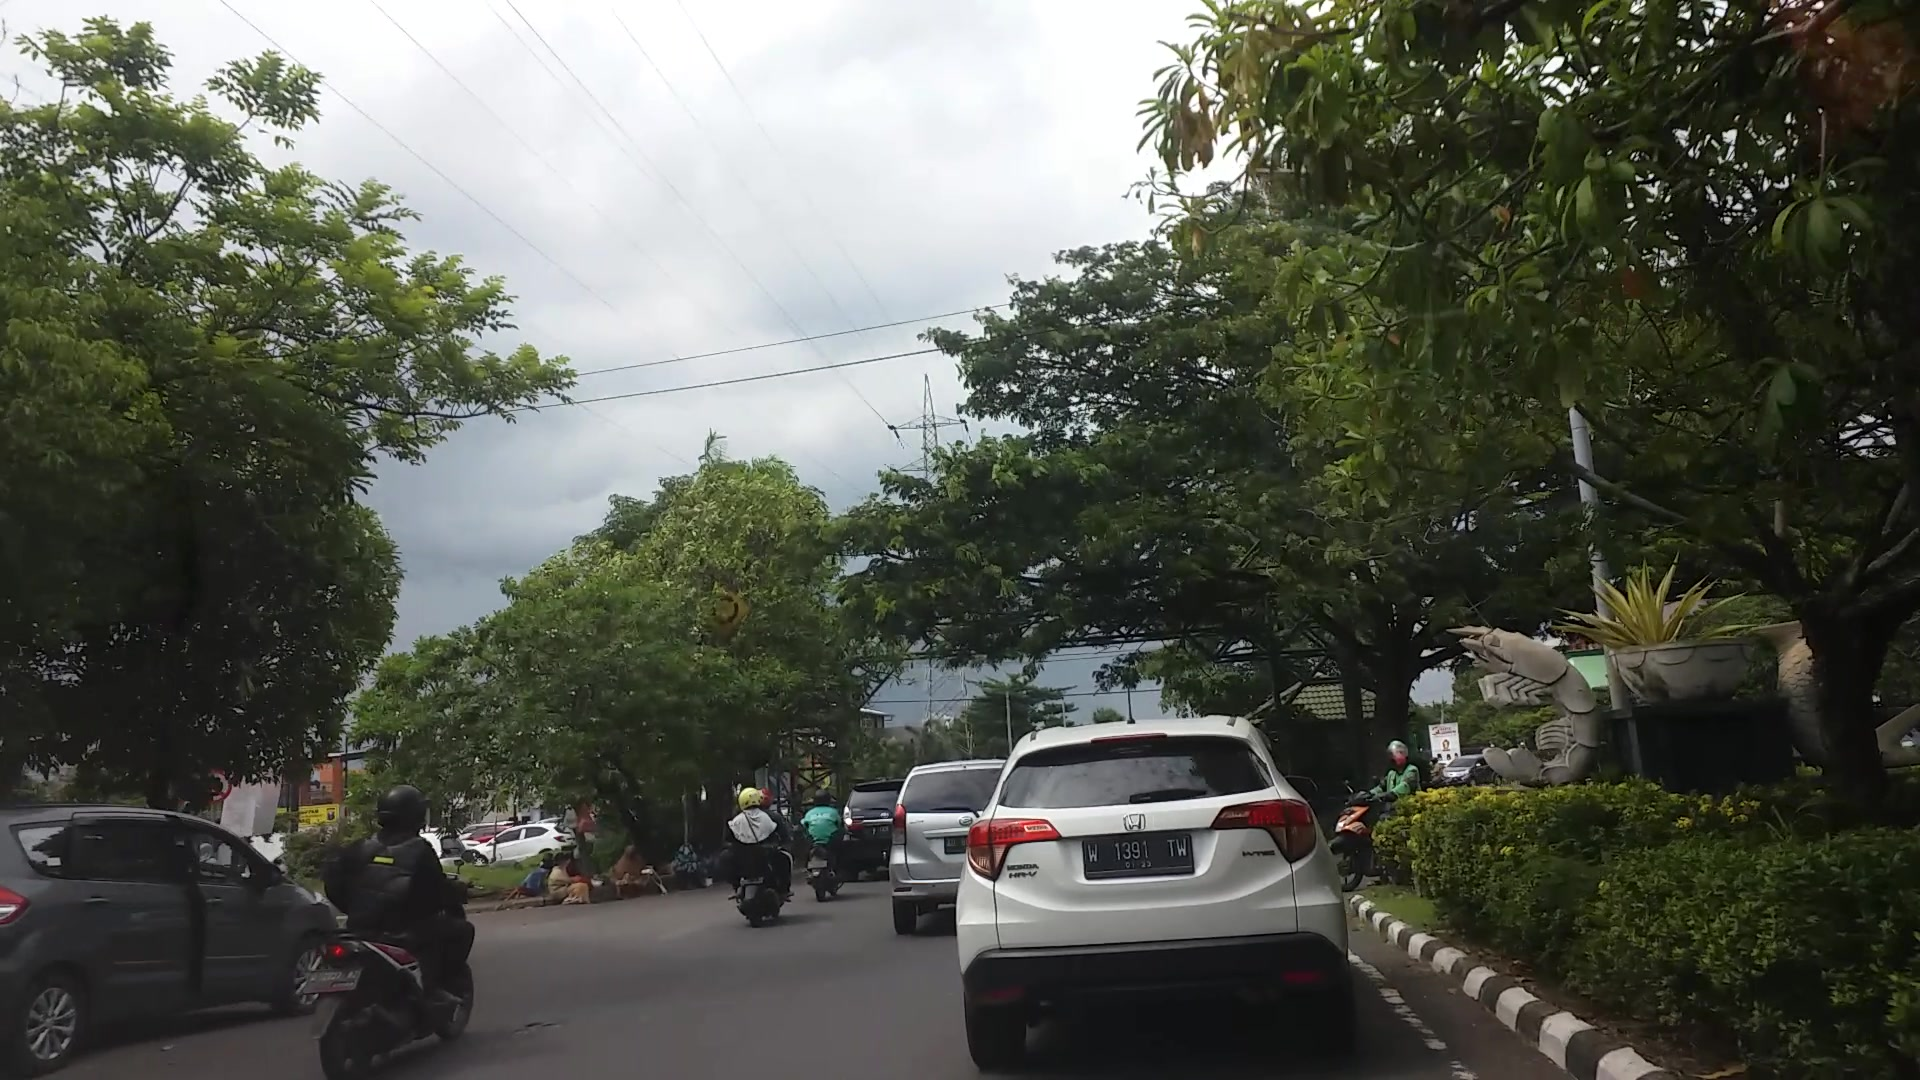plate_positive: (1083, 835, 1195, 873)
